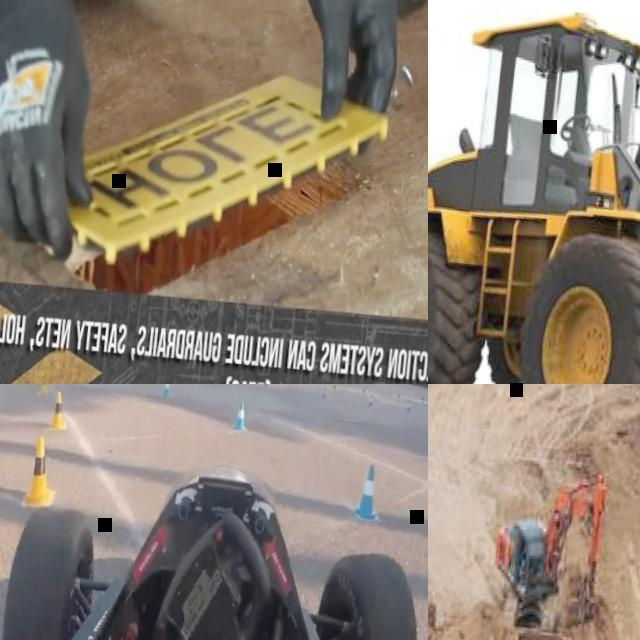Person: (0, 0, 426, 286)
Safety Cone: (22, 433, 56, 509), (350, 460, 386, 531), (45, 390, 69, 438), (231, 395, 250, 436), (160, 384, 172, 402), (37, 384, 49, 396), (319, 386, 326, 405), (367, 394, 374, 412), (406, 399, 411, 417), (294, 384, 301, 390)
machinery: (428, 0, 640, 384), (486, 460, 614, 636)
vehicle: (0, 437, 428, 640)
